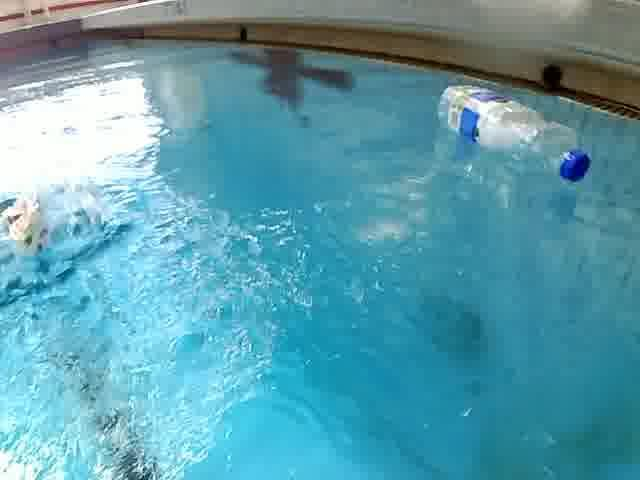Bottle: (439, 81, 595, 187)
